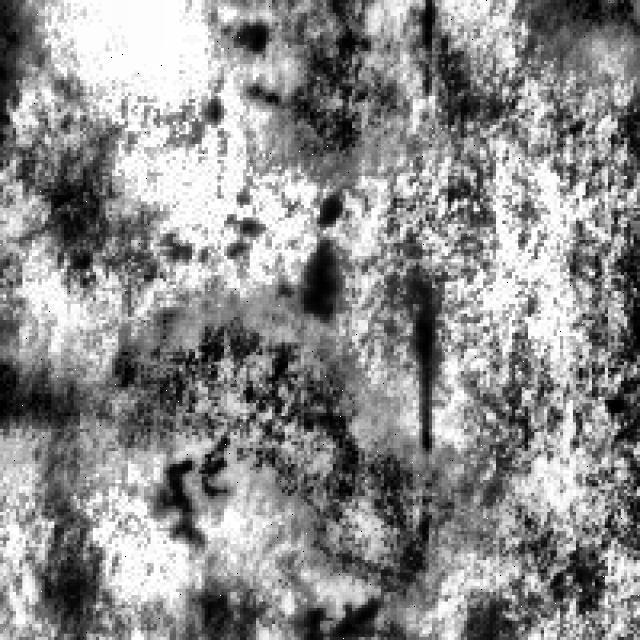Patches: (266, 195, 348, 314), (403, 294, 435, 458), (291, 589, 384, 637)
Scratches: (106, 304, 436, 592), (282, 0, 401, 160), (0, 307, 86, 483), (512, 0, 637, 64)
